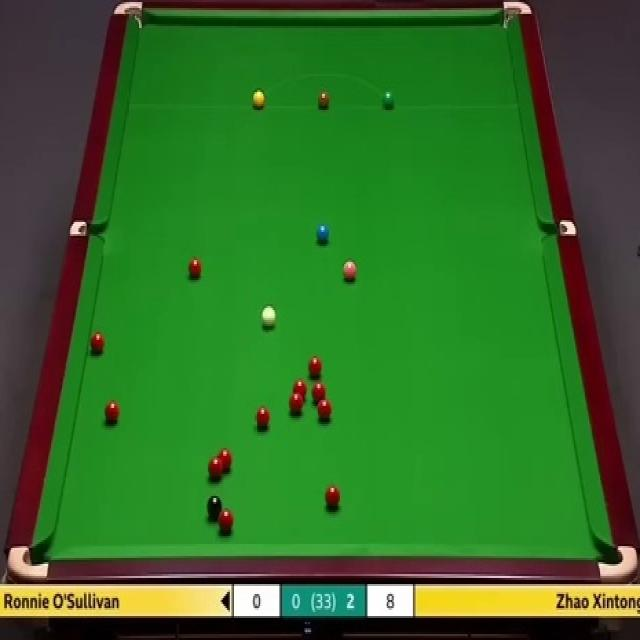black-ball: (206, 492, 224, 524)
blue-ball: (316, 222, 332, 247)
brown-ball: (317, 91, 331, 111)
green-ball: (380, 90, 394, 112)
pink-ball: (341, 256, 360, 284)
red-ball: (217, 510, 236, 537), (103, 398, 120, 426), (206, 457, 225, 482), (306, 354, 324, 380), (88, 330, 105, 356), (188, 256, 204, 280), (256, 408, 272, 432), (325, 485, 340, 510), (288, 393, 304, 416), (291, 379, 308, 400), (218, 448, 234, 470), (317, 398, 332, 420), (311, 382, 327, 402)
white-ball: (261, 301, 277, 328)
yellow-ball: (252, 90, 266, 110)
